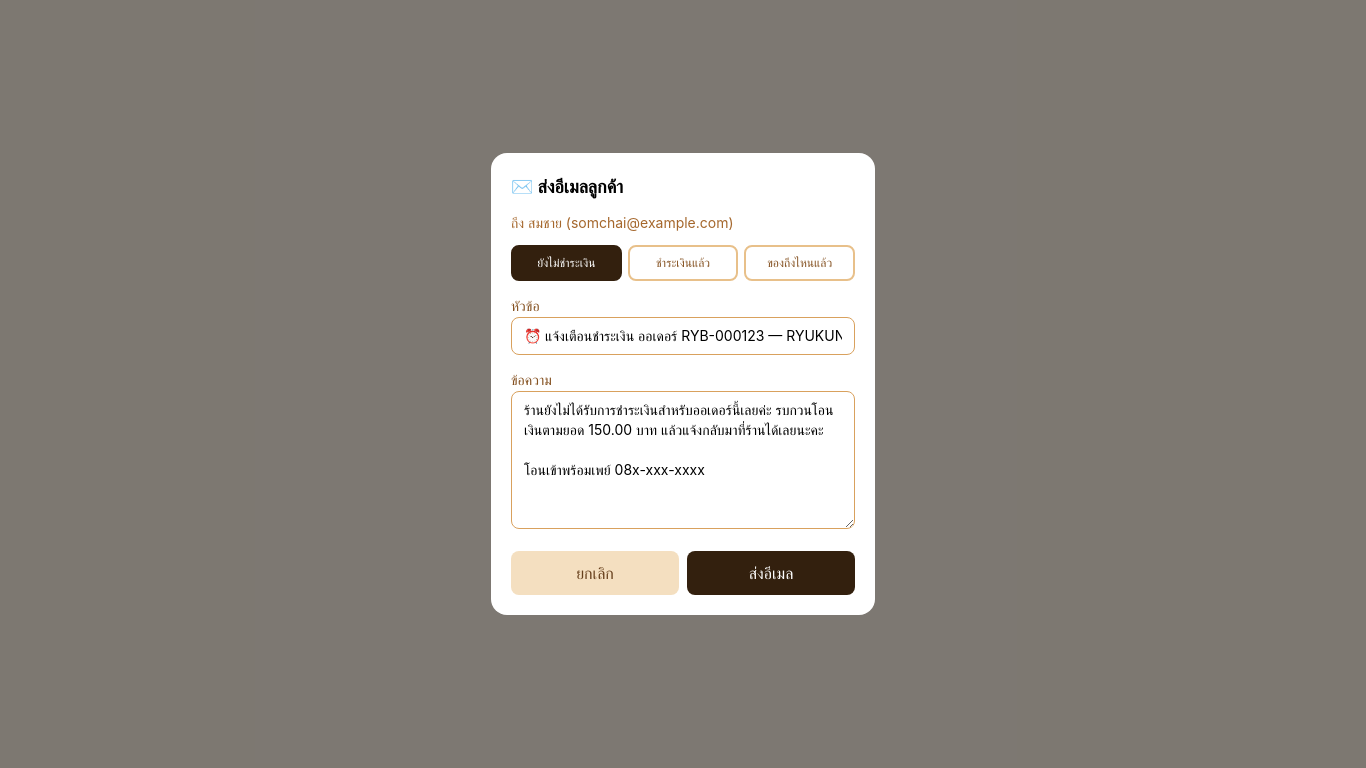
Test: ComposeEmailModal › ลบข้อความจนว่างเปล่าแล้วกดส่ง ขึ้น error ไม่ยิง sendCustomerEmail
The width and height of the screenshot is (1366, 768).
Step 1. Clear the text box labelled "ข้อความ" → [683, 460], box [511,391,855,529]
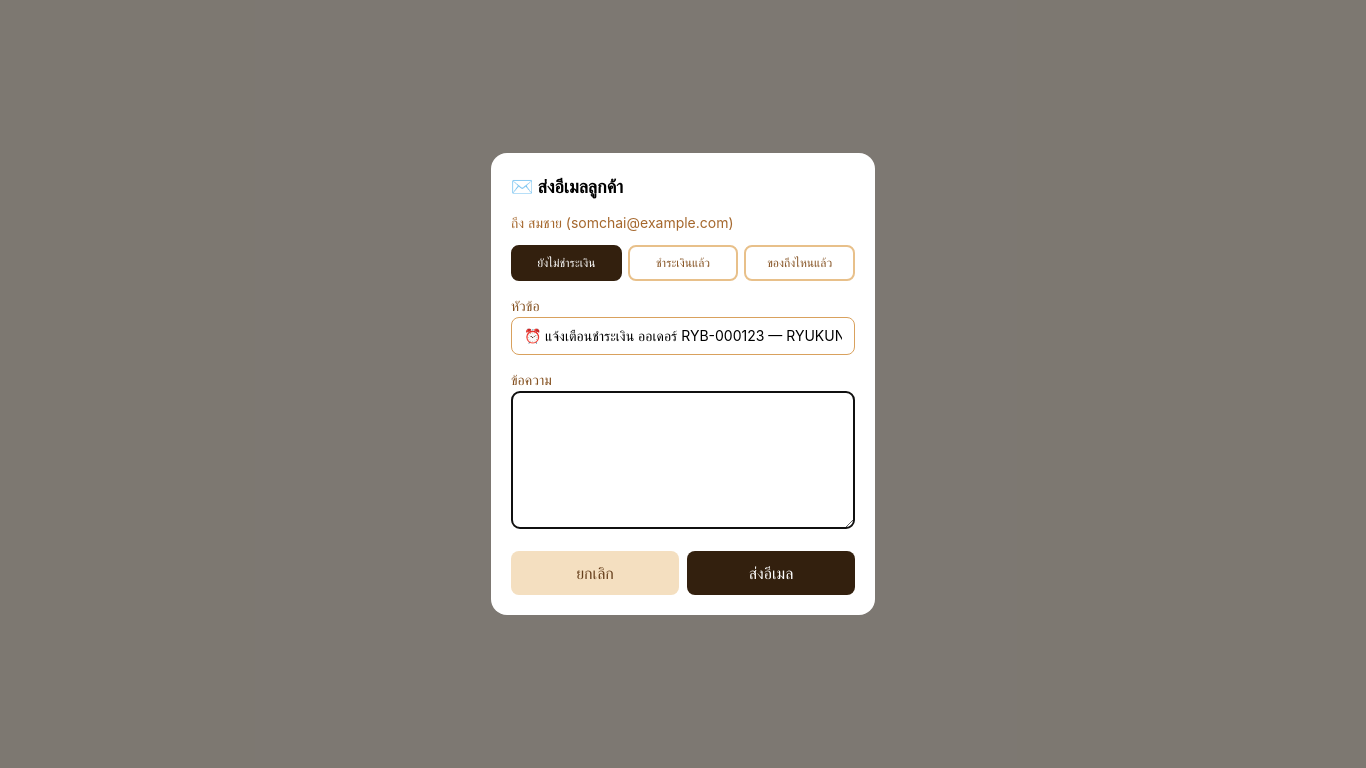
Step 2. Click the button "ส่งอีเมล" → [771, 573], box [687,551,855,595]
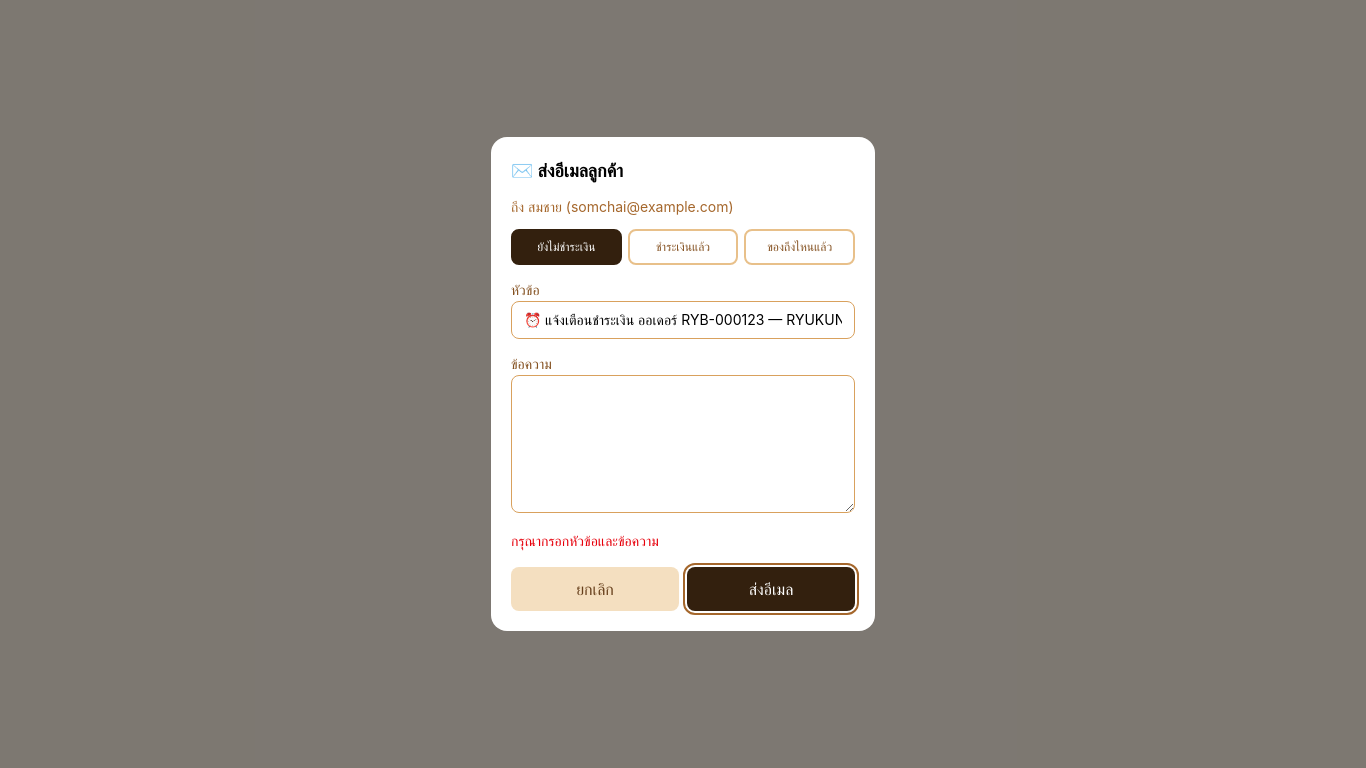
Check: the text "กรุณากรอกหัวข้อและข้อความ" is shown, box [511,532,659,549]
